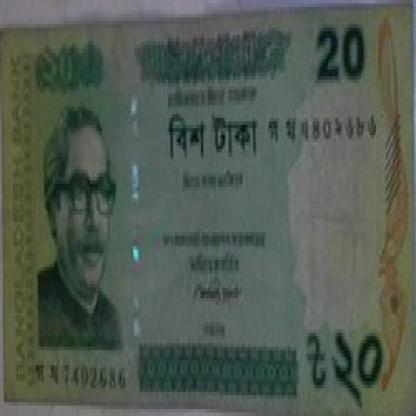Twenty: (306, 322, 384, 413), (162, 111, 262, 173), (303, 14, 368, 90), (42, 38, 104, 108)
